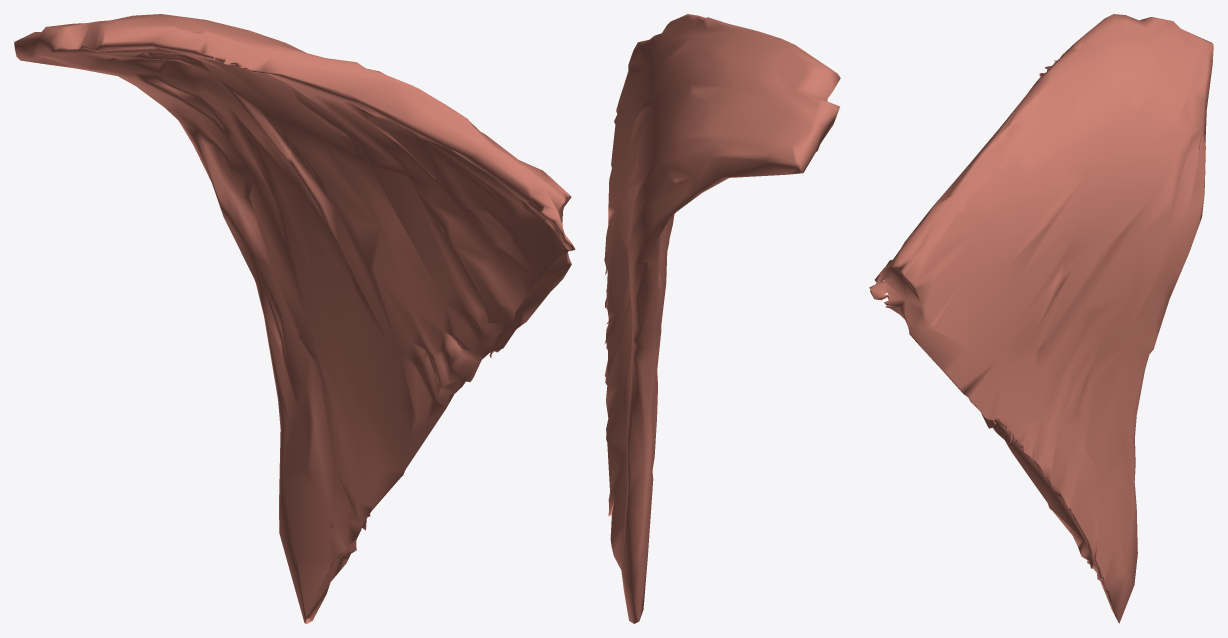
3 views of the same model, side by side, from view 1: azimuth 30°, elevation 25°; view 2: azimuth 150°, elevation 25°; view 3: azimuth 270°, elevation 25° (orthographic). The views are drawn at different scales.
Parts seen in each view (by area): view 1: 左侧髂尾肌; view 2: 左侧髂尾肌; view 3: 左侧髂尾肌.
Boxes of the visible parts, bbox=[...] form: 左侧髂尾肌: bbox=[14, 14, 575, 623]; 左侧髂尾肌: bbox=[604, 14, 840, 623]; 左侧髂尾肌: bbox=[869, 14, 1213, 623].
Bounding box in the file's own units: 0.0676 × 0.1116 × 0.0659.
